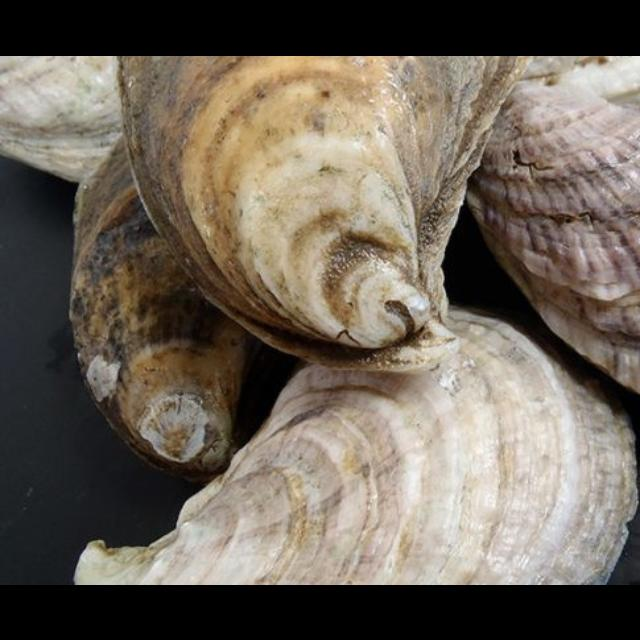Oyster-Closed: (73, 302, 639, 584), (117, 55, 530, 372), (71, 131, 261, 479), (466, 55, 640, 393), (0, 55, 122, 185)
